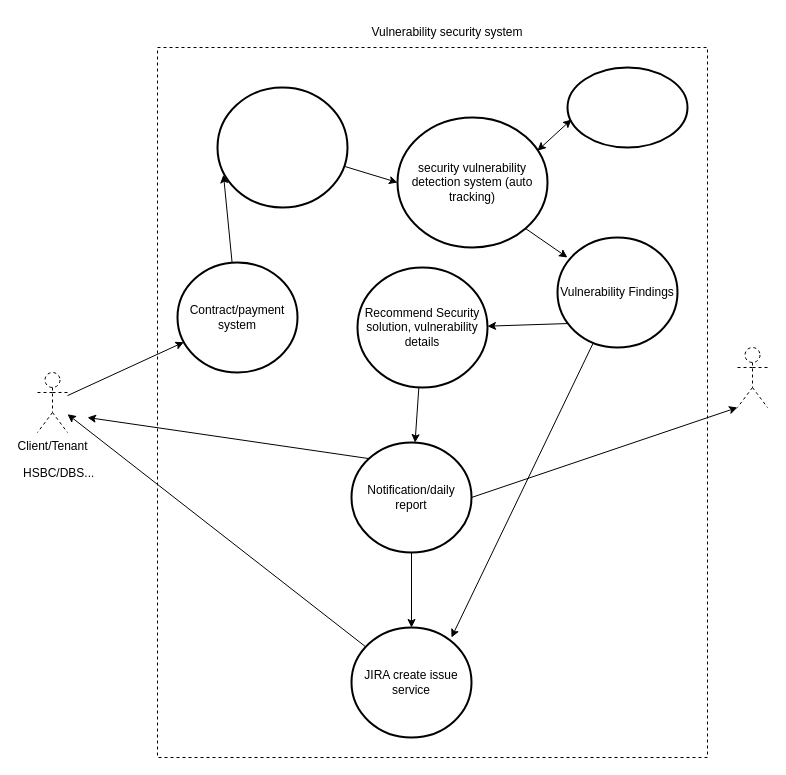
The diagram is 786 pixels wide and 775 high, and some of its shapes have lost their labels. Each missing label, with the centre of its shape:
3rd services: point 627,107
Admin: point 752,377
Request hunt and provide website URL need to check vulnerability: point 282,147
